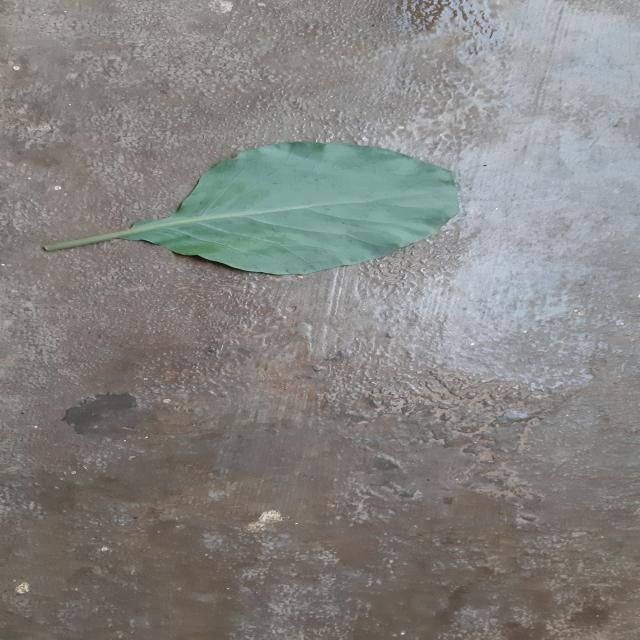Kohlrabi: (62, 142, 460, 274)
